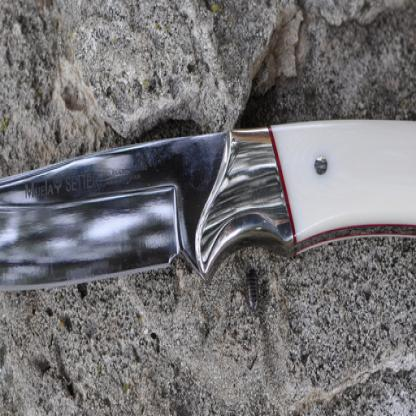knife: (0, 116, 415, 294)
